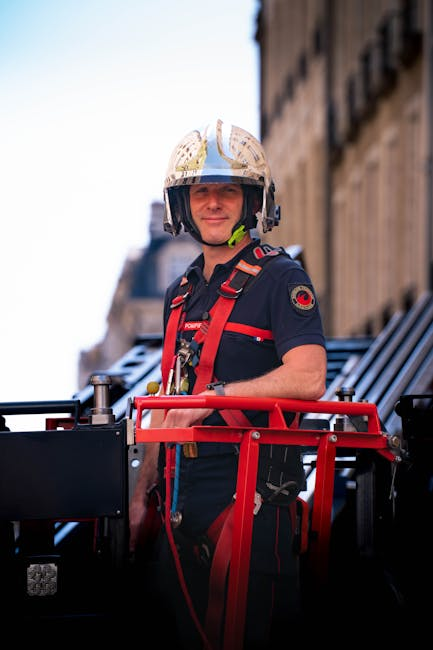safety_helmet: (161, 117, 281, 246)
